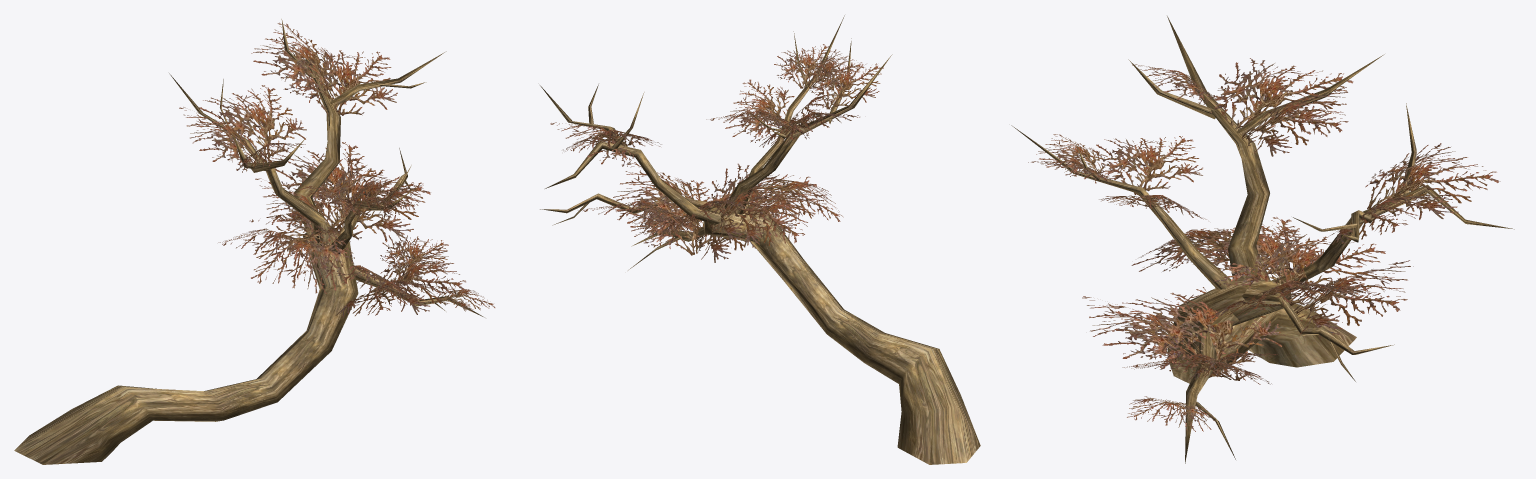
File: S_Tree_Yellow024.FBX
3 renders of one model, left to right at view 1: azimuth 30°, elevation 25°; view 2: azimuth 150°, elevation 25°; view 3: azimuth 270°, elevation 25°, orthographic. The views are drawn at different scales.
Parts seen in each view (by area): view 1: S_Tree_Yellow024; view 2: S_Tree_Yellow024; view 3: S_Tree_Yellow024.
Part boxes in pixels (x1,y1,x2,y2): S_Tree_Yellow024: [14, 19, 495, 464]; S_Tree_Yellow024: [540, 15, 980, 464]; S_Tree_Yellow024: [1011, 16, 1514, 463].
Bounding box in the file's own units: 1066 × 929 × 782.
